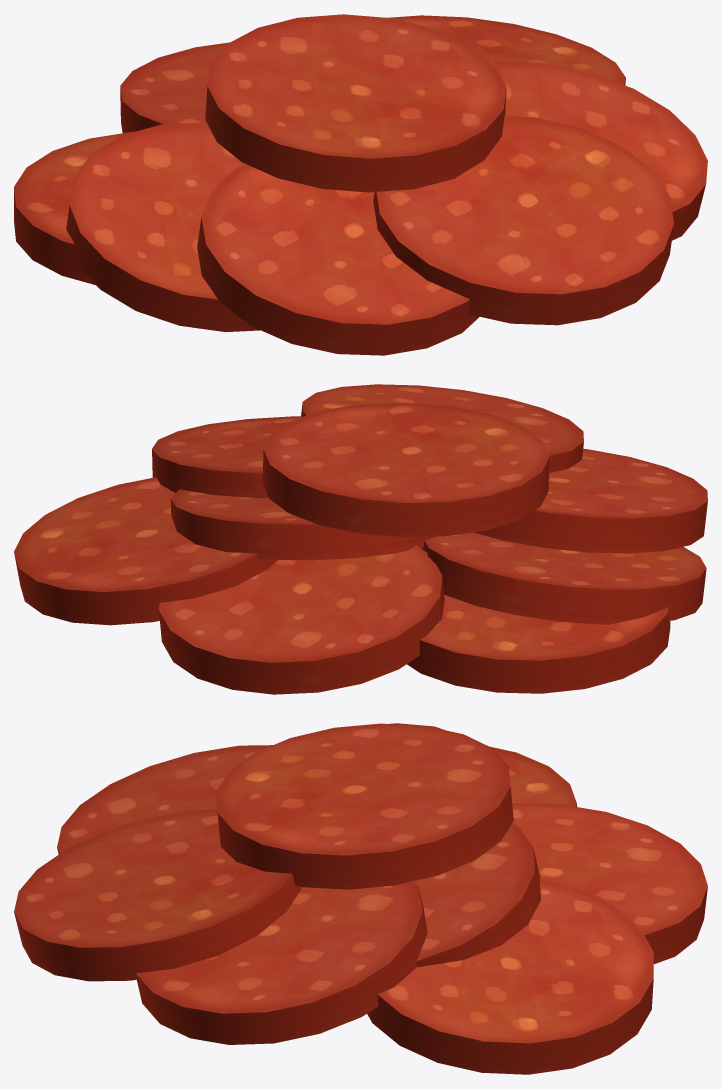
The model's file is Pizza_Pepperoni_Chopped.fbx.
The picture shows the model from 3 angles, top to bottom: view 1: azimuth 30°, elevation 25°; view 2: azimuth 150°, elevation 25°; view 3: azimuth 270°, elevation 25°; orthographic projection. The views are drawn at different scales.
Parts seen in each view (by area): view 1: Pizza_Pepperoni_Chopped; view 2: Pizza_Pepperoni_Chopped; view 3: Pizza_Pepperoni_Chopped.
Part boxes in pixels (x1,y1,x2,y2): Pizza_Pepperoni_Chopped: (14,14,707,355); Pizza_Pepperoni_Chopped: (14,384,707,694); Pizza_Pepperoni_Chopped: (14,723,707,1074).
Bounding box in the file's own units: 0.7105 × 0.17 × 0.7069.
1 material, 1 textured.
